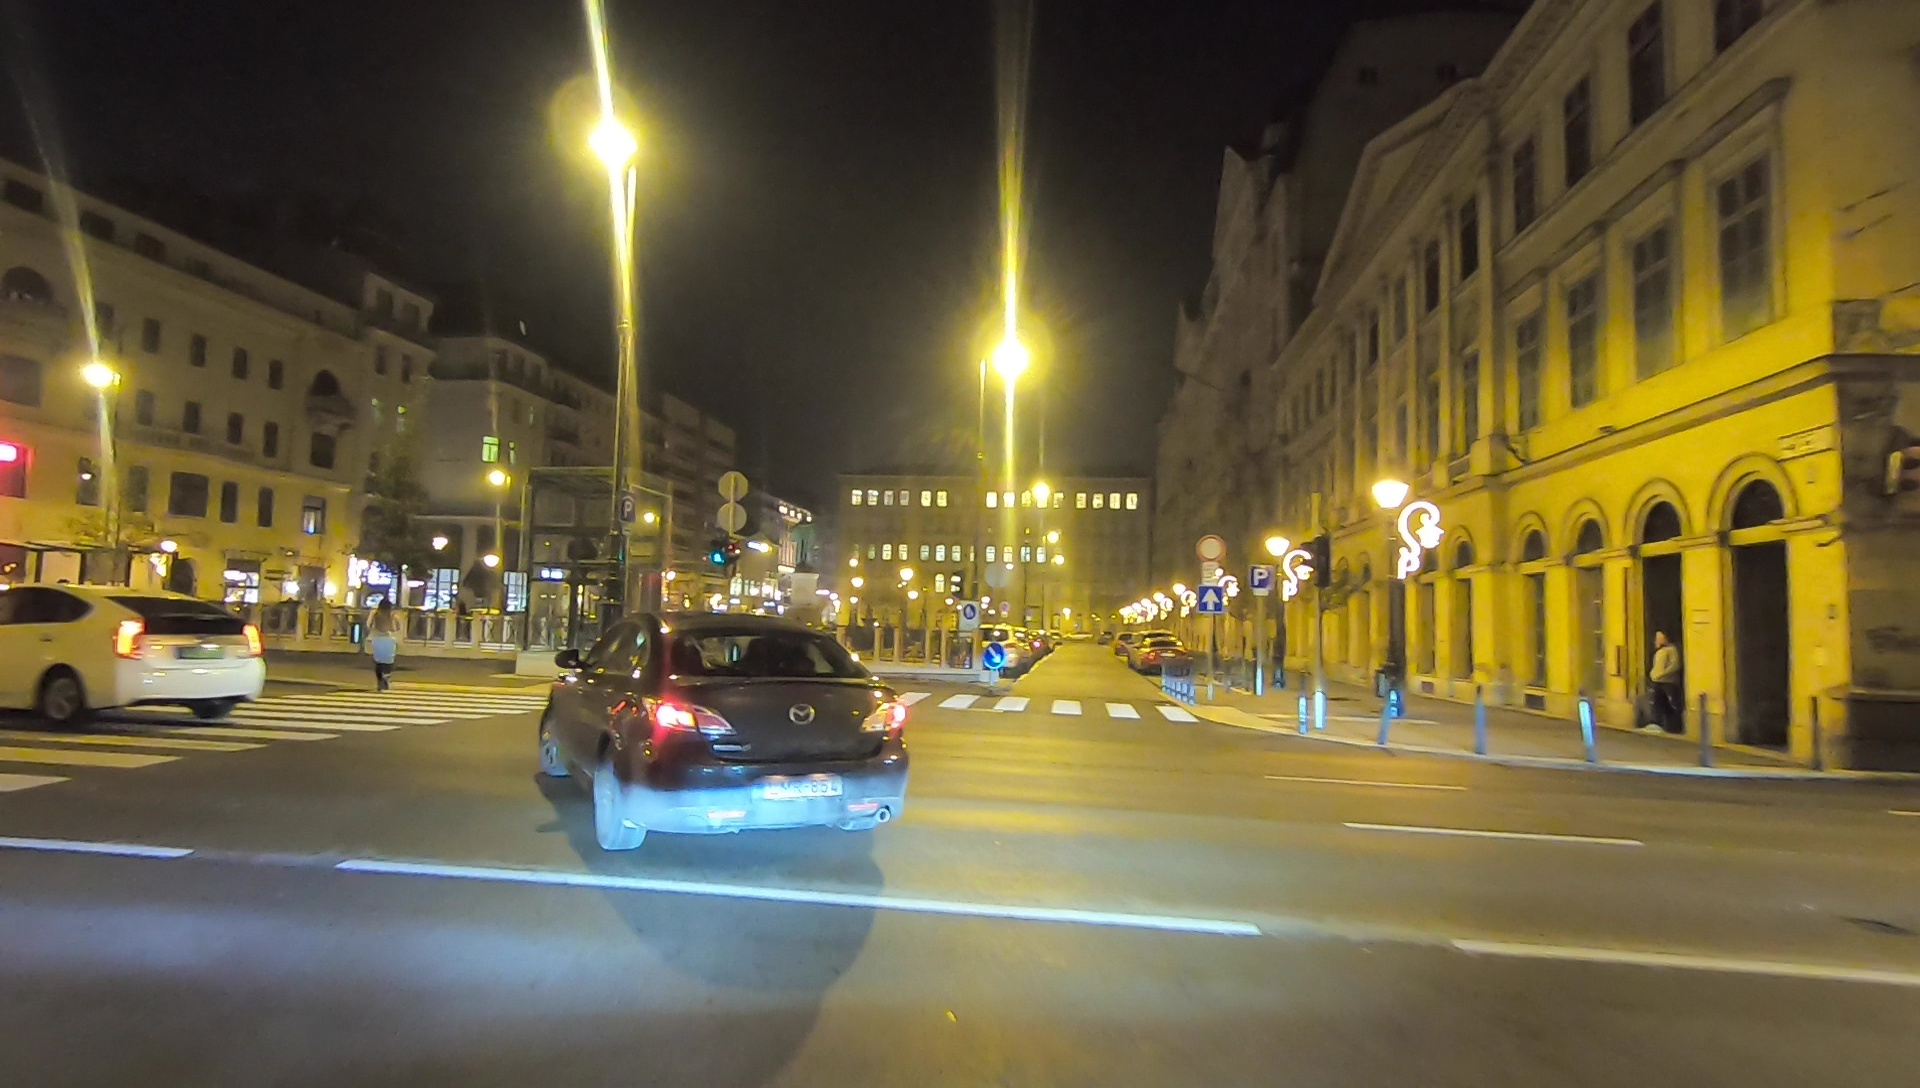person: (364, 597, 401, 691), (1643, 630, 1676, 734)
